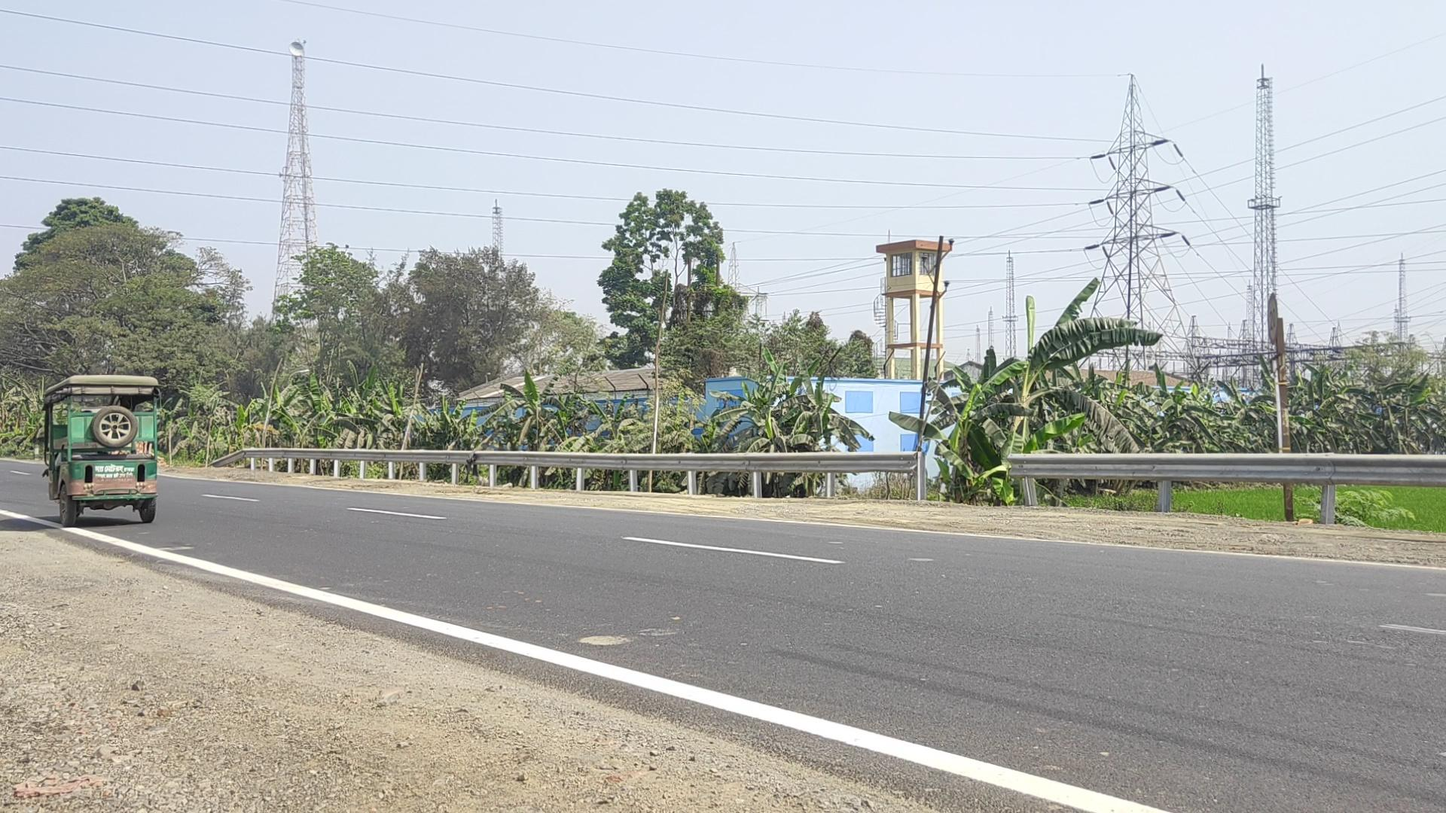Auto: (42, 375, 160, 528)
